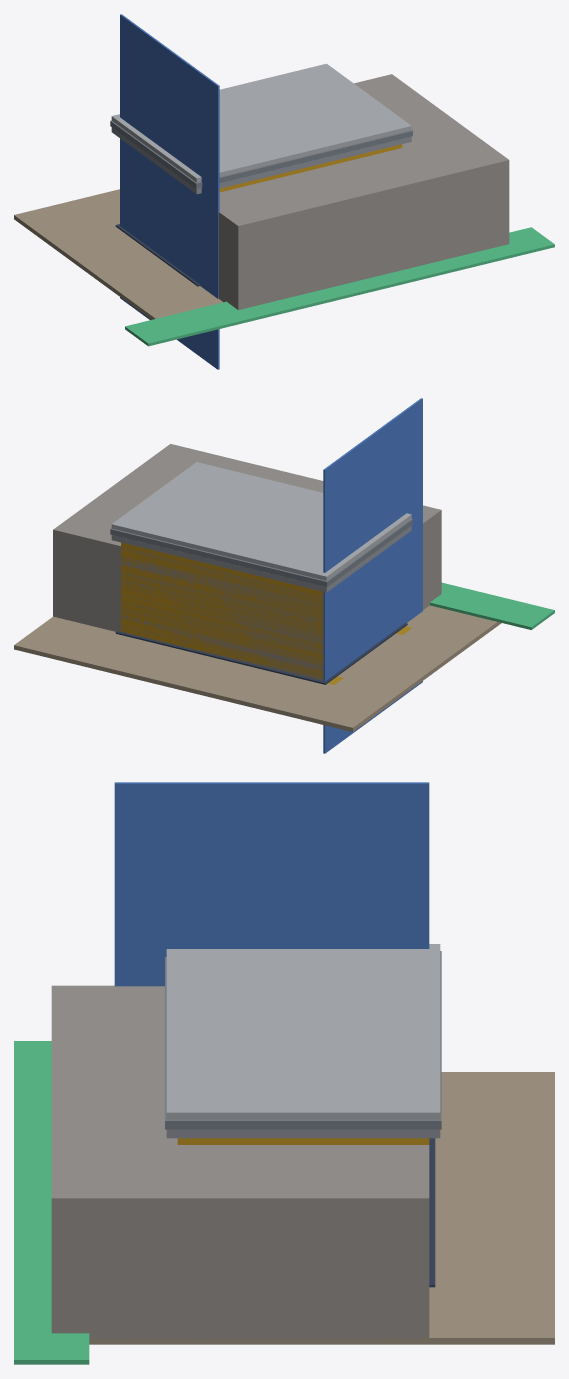
File: stage_07_complete.glb
3 views of the same model, one above another, from view 1: azimuth 30°, elevation 25°; view 2: azimuth 150°, elevation 25°; view 3: azimuth 270°, elevation 25° (orthographic). The views are drawn at different scales.
Parts seen in each view (by area): view 1: world; view 2: world; view 3: world.
Part boxes in pixels (x1,y1,x2,y2): world: [14, 14, 554, 369]; world: [14, 398, 554, 753]; world: [14, 782, 554, 1364].
Size of the model in its own units: 12 by 8 by 8.6.
